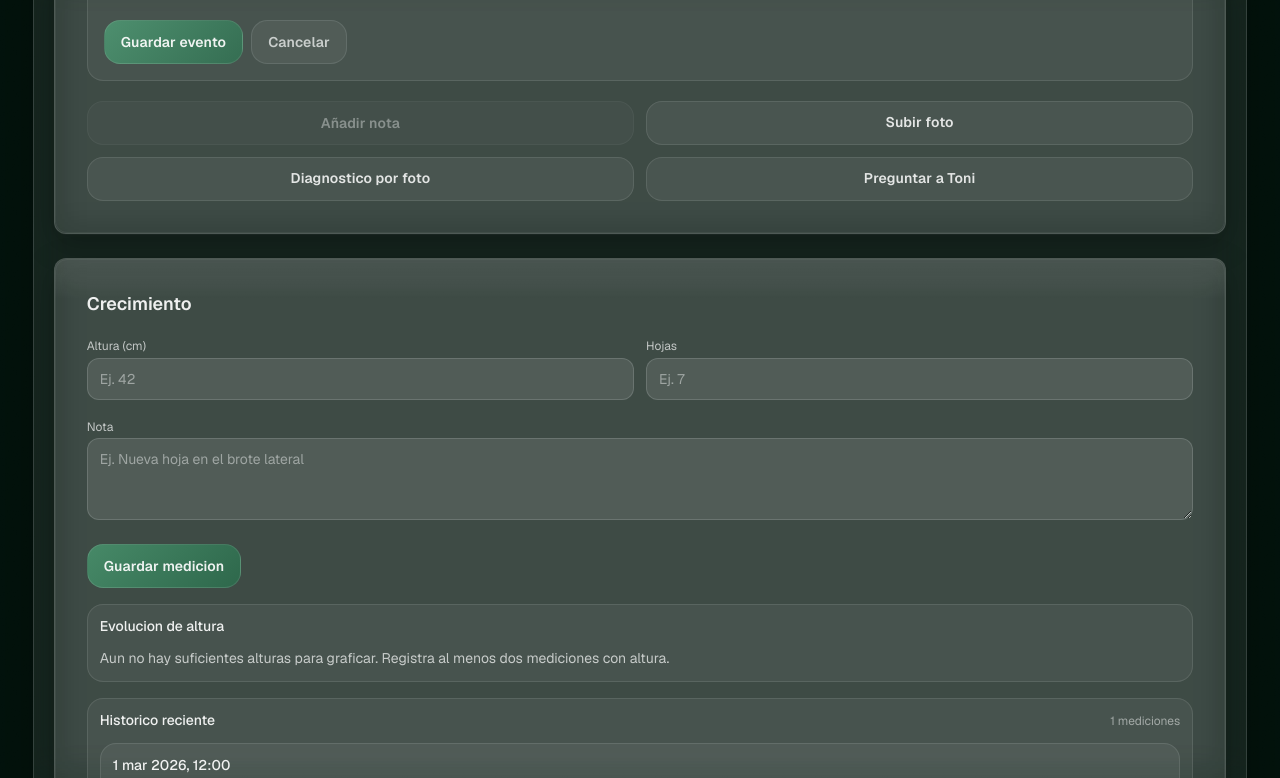
Test: garden/[plantId] growth history and chart › refreshes history and chart consistency after saving a new measurement
(page scrolled)
Check: the heading "Historico reciente" is shown, box [100,711,215,731]
Check: the text "Aun no hay suficientes alturas para graficar. Registra al menos dos mediciones con altura." is shown, box [100,650,669,668]
Type "24" into the number field labelled "Altura (cm)". click: (360, 379)
box: [87,358,634,400]
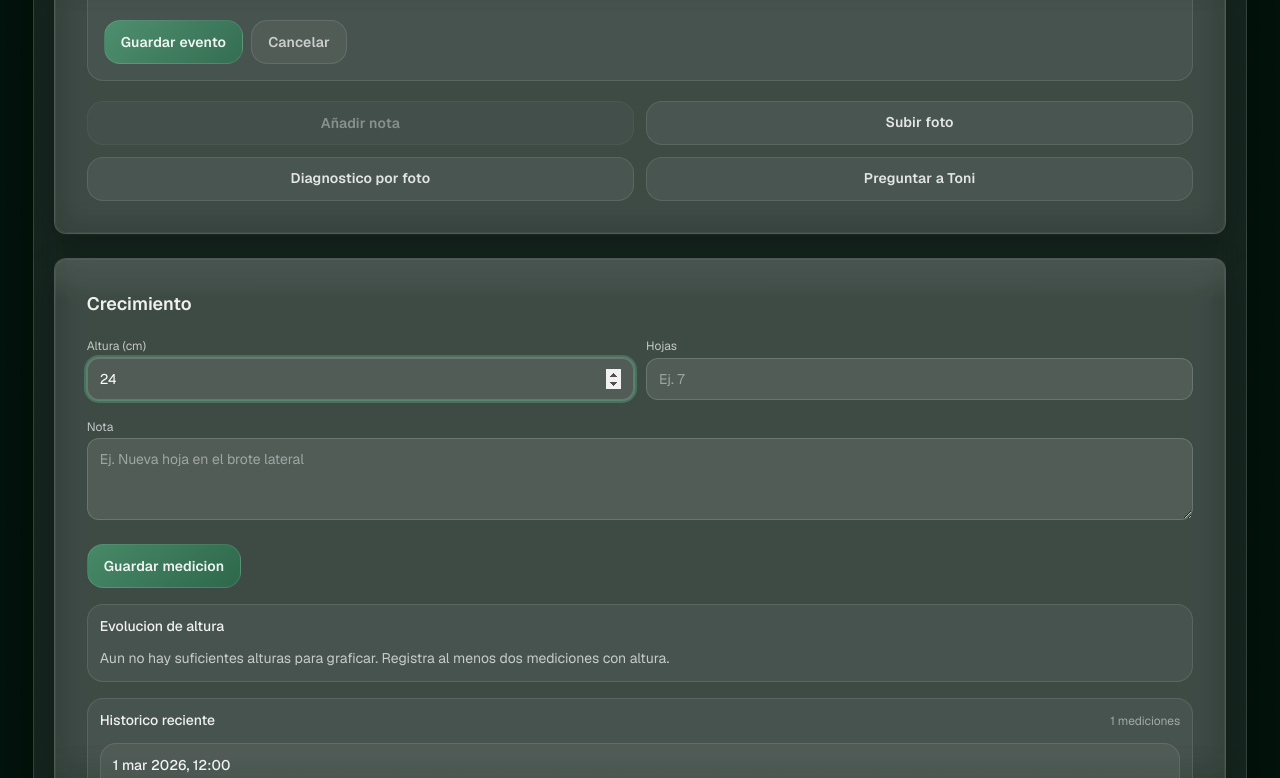
Type "8" into the number field labelled "Hojas". click: (920, 379)
box: [646,358,1193,400]
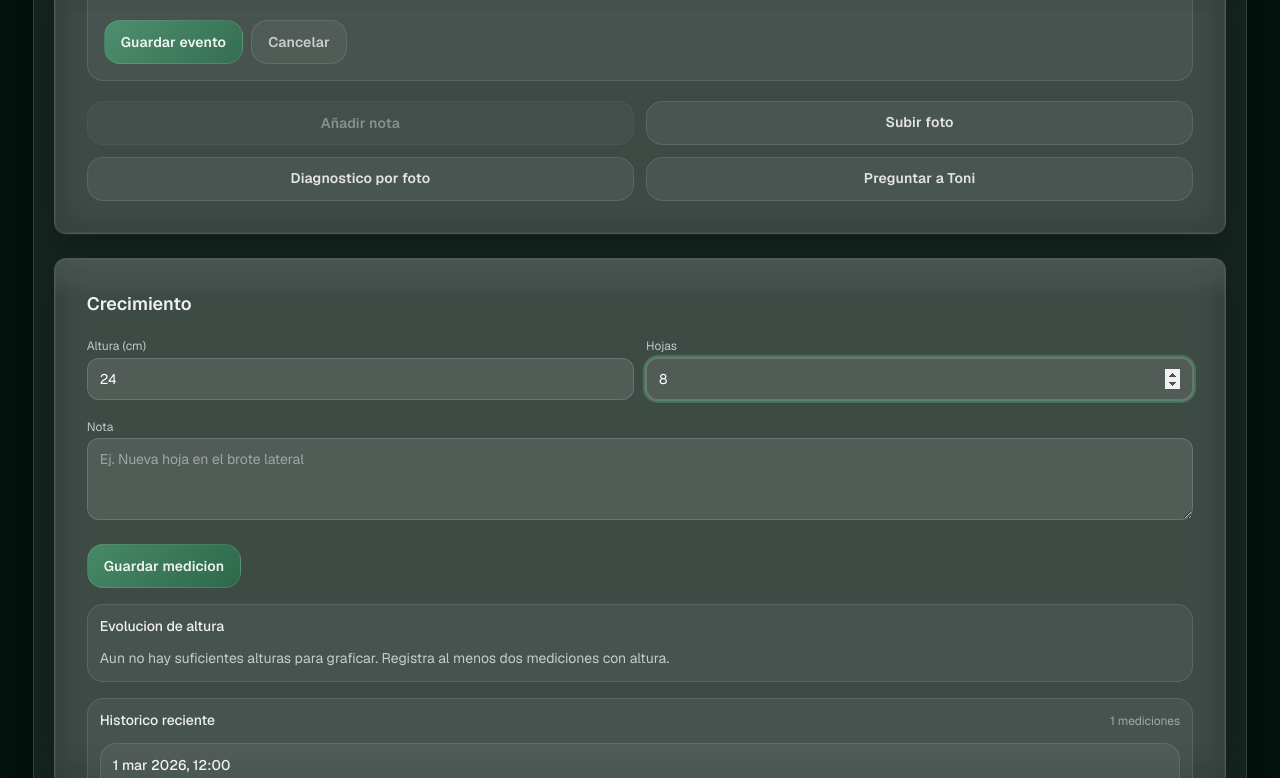
Type "Nueva medicion" into the text box labelled "Nota". click: (640, 479)
box: [87,438,1193,520]
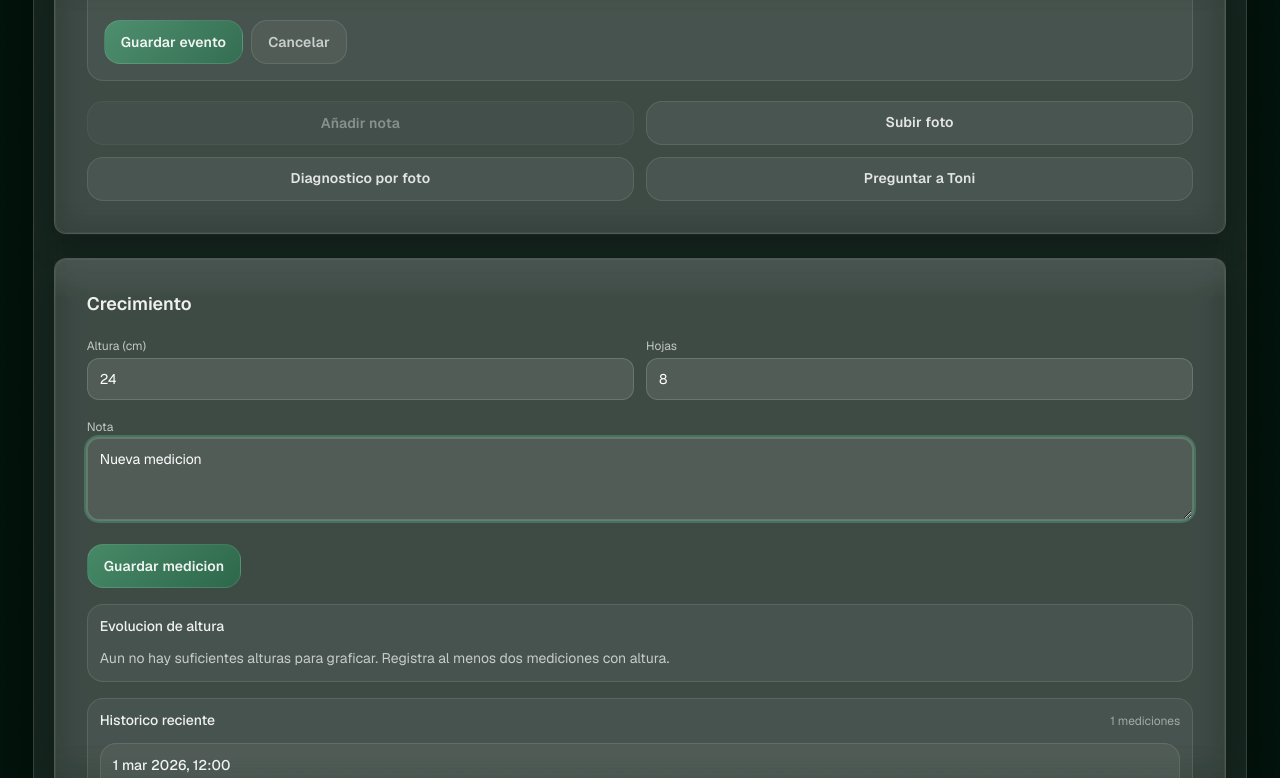
Click the button "Guardar medicion". click: (164, 566)
box: [87,544,241,588]
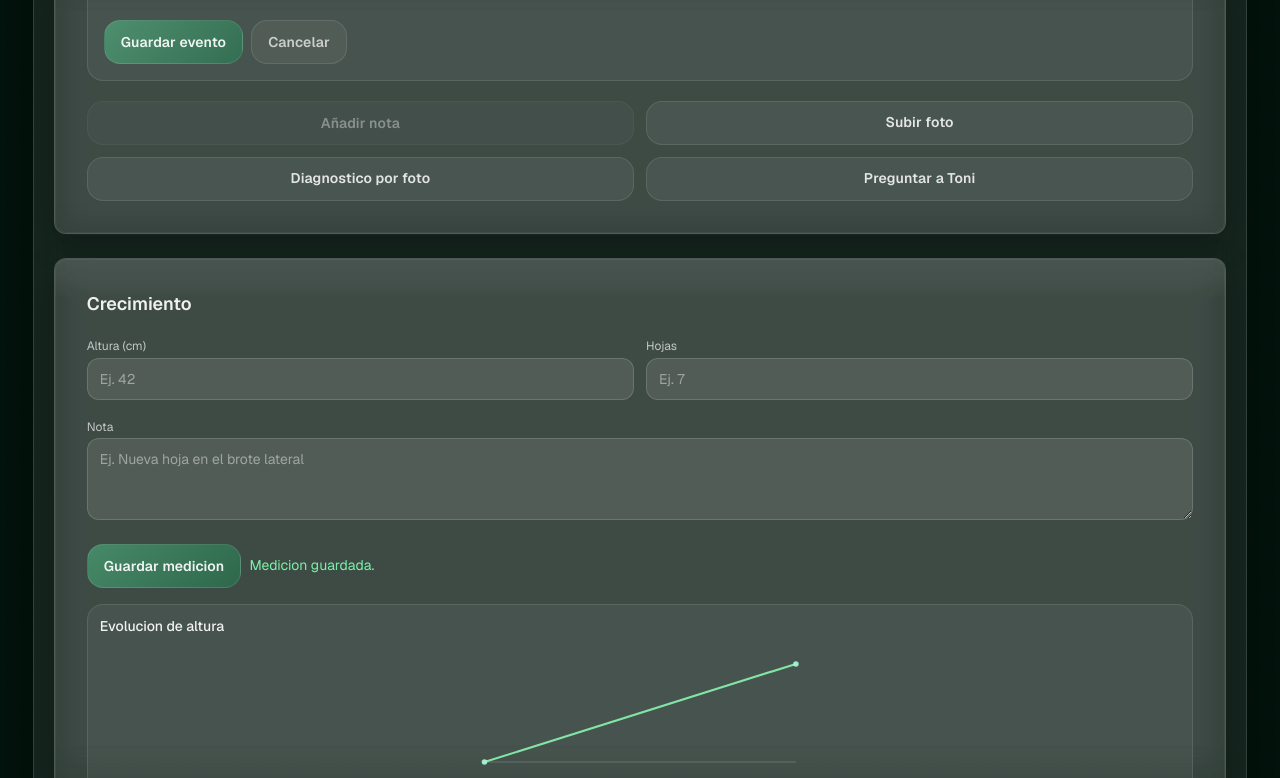
Check: the picture named "Grafica simple de crecimiento por altura" is shown, box [100,649,1180,777]
